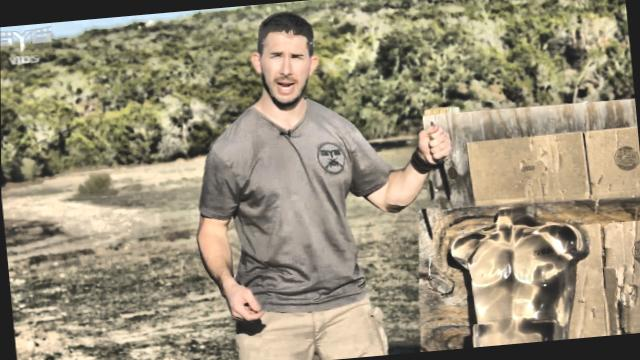knife: (418, 120, 460, 204)
